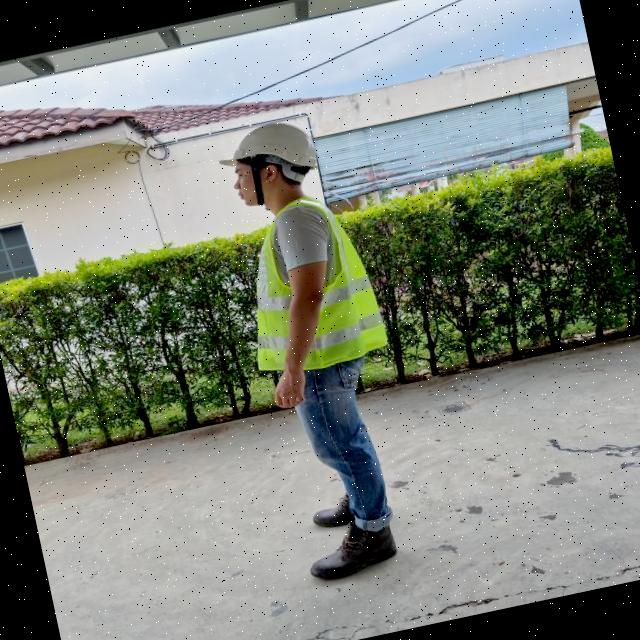vest: (225, 188, 392, 380)
